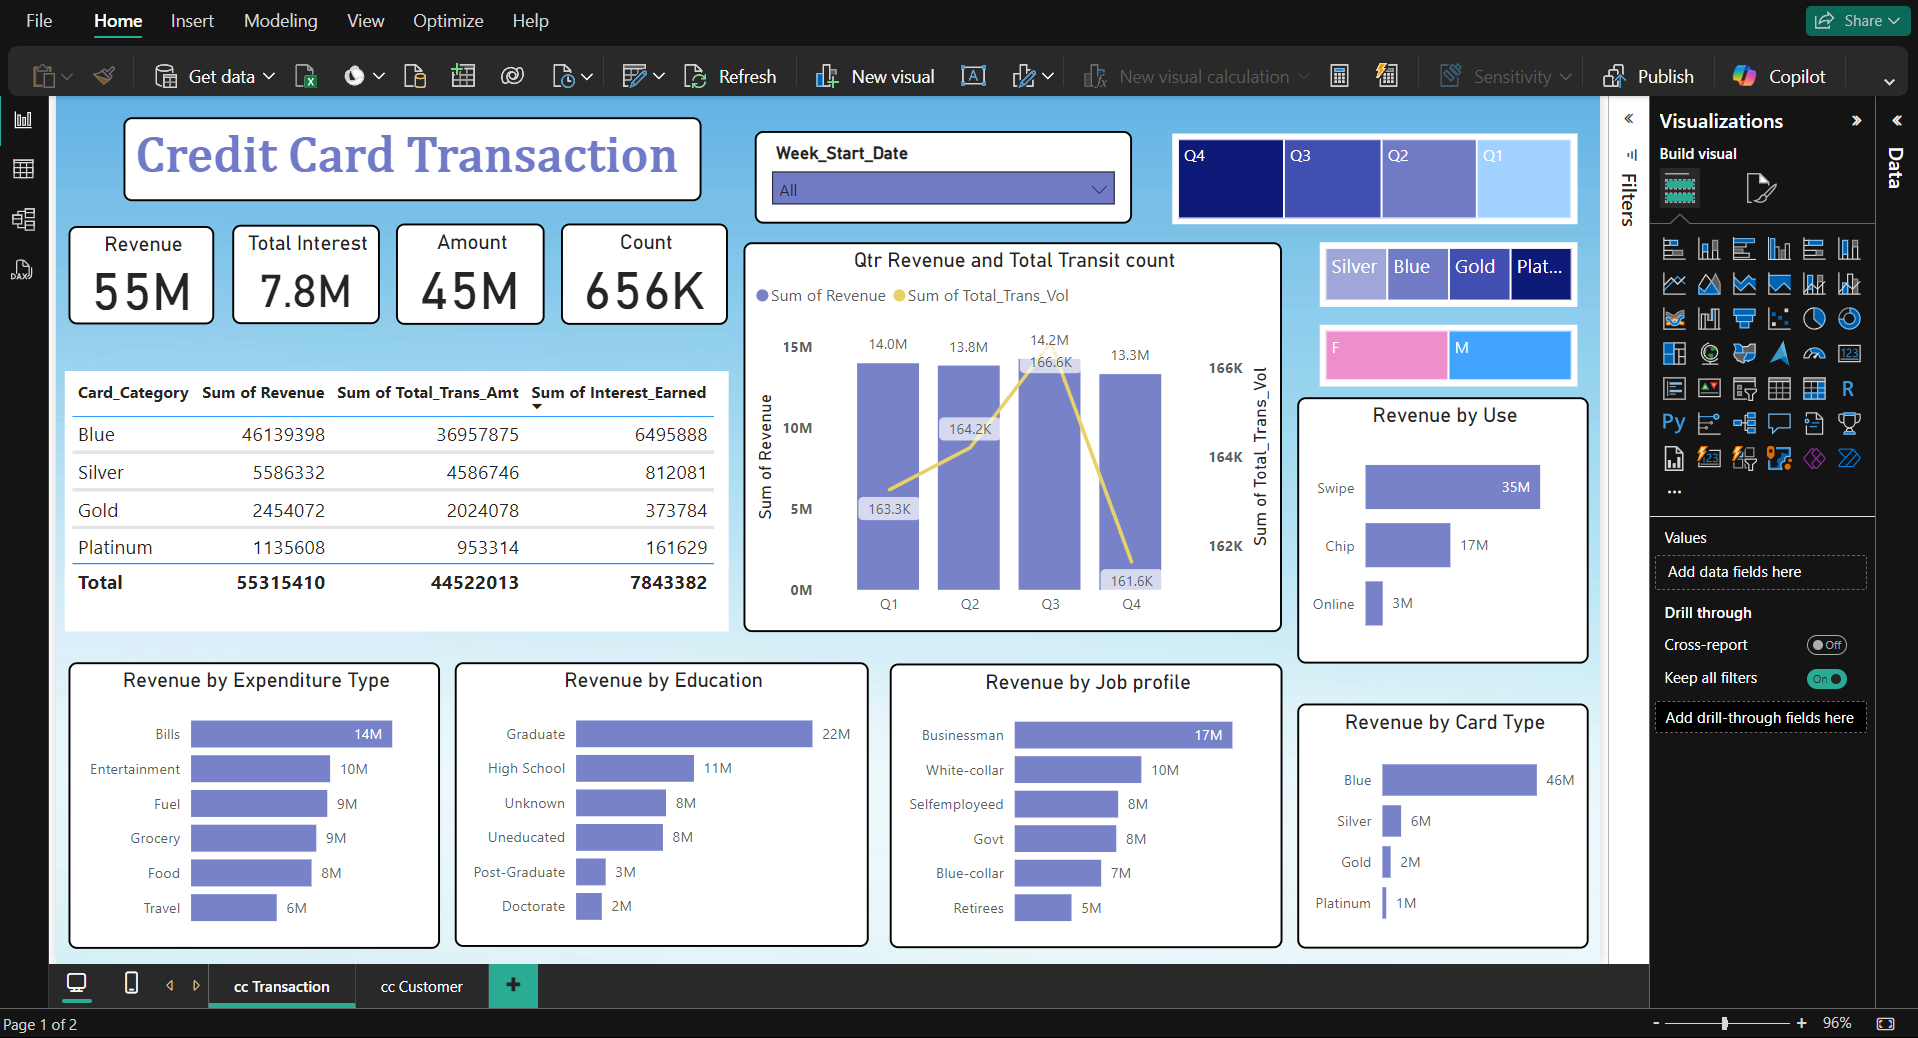

This screenshot's page, from the dashboard's own definition file:
{"tool":"powerbi","page":{"name":"cc Transaction","canvas":[1280,720],"ordinal":0},"visuals":[{"type":"textbox","box":[55.8,17.4,479.1,69.8],"z":0},{"type":"lineStackedColumnComboChart","title":"Qtr Revenue and Total Transit count","fields":{"Category":["credit_card_db credit_card_details.Qtr"],"Y":["Sum(credit_card_db credit_card_details.Revenue)"],"Y2":["Sum(credit_card_db credit_card_details.Total_Trans_Vol)"]},"box":[569.8,120.9,446.5,323.3],"z":1000},{"type":"barChart","title":"Revenue by Expenditure Type","fields":{"Y":["Sum(credit_card_db credit_card_details.Revenue)"],"Category":["credit_card_db credit_card_details.Exp Type"]},"box":[10.5,469.8,308.1,237.2],"z":2000},{"type":"barChart","title":"Revenue by Education","fields":{"Y":["Sum(credit_card_db credit_card_details.Revenue)"],"Category":["credit_card_db customer_details.Education_Level"]},"box":[330.2,469.8,343,236],"z":3000},{"type":"barChart","title":"Revenue by Job profile","fields":{"Y":["Sum(credit_card_db credit_card_details.Revenue)"],"Category":["credit_card_db customer_details.Customer_Job"]},"box":[690.7,470.9,325.6,236],"z":4000},{"type":"barChart","title":"Revenue by Card Type","fields":{"Y":["Sum(credit_card_db credit_card_details.Revenue)"],"Category":["credit_card_db credit_card_details.Card_Category"]},"box":[1029.1,503.5,241.9,203.5],"z":5000},{"type":"barChart","title":"Revenue by Use","fields":{"Y":["Sum(credit_card_db credit_card_details.Revenue)"],"Category":["credit_card_db credit_card_details.Use Chip"]},"box":[1029.1,250,241.9,220.9],"z":6000},{"type":"tableEx","fields":{"Values":["credit_card_db credit_card_details.Card_Category","Sum(credit_card_db credit_card_details.Revenue)","Sum(credit_card_db credit_card_details.Total_Trans_Amt)","Sum(credit_card_db credit_card_details.Interest_Earned)"]},"box":[7,227.9,550,216.3],"z":7000},{"type":"card","title":"Revenue","fields":{"Values":["Sum(credit_card_db credit_card_details.Revenue)"]},"box":[10.5,108.1,120.9,81.4],"z":8000},{"type":"card","title":"Total Interest","fields":{"Values":["Sum(credit_card_db credit_card_details.Interest_Earned)"]},"box":[146.5,107,122.1,82.6],"z":9000},{"type":"card","title":"Amount","fields":{"Values":["Sum(credit_card_db credit_card_details.Total_Trans_Amt)"]},"box":[281.4,105.8,123.3,83.7],"z":10000},{"type":"card","title":"Count","fields":{"Values":["Sum(credit_card_db credit_card_details.Total_Trans_Vol)"]},"box":[418.6,105.8,138.4,83.7],"z":11000},{"type":"slicer","fields":{"Values":["credit_card_db credit_card_details.Week_Start_Date"]},"box":[579.1,29.1,312.8,76.7],"z":12000},{"type":"treemap","fields":{"Group":["credit_card_db credit_card_details.Qtr"],"Values":["Avg(credit_card_db credit_card_details.ï»¿Client_Num)"]},"box":[925.6,31.4,336,75.6],"z":13000},{"type":"treemap","fields":{"Group":["credit_card_db credit_card_details.Card_Category"],"Values":["Avg(credit_card_db credit_card_details.ï»¿Client_Num)"]},"box":[1047.7,120.9,214,53.5],"z":14000},{"type":"treemap","fields":{"Group":["credit_card_db customer_details.Gender"],"Values":["Avg(credit_card_db credit_card_details.ï»¿Client_Num)"]},"box":[1047.7,189.5,214,51.2],"z":15000}]}

Visuals, with their boxes on the page's 1280x720 design canvas (x1, y1, x2, y2). These are canvas units, not pixel positions in the 1918x1038 screenshot, which may show the page scaled, cropped or inside an application window:
textbox: region(56, 17, 535, 87)
"Qtr Revenue and Total Transit count" lineStackedColumnComboChart: region(570, 121, 1016, 444)
"Revenue by Expenditure Type" barChart: region(10, 470, 319, 707)
"Revenue by Education" barChart: region(330, 470, 673, 706)
"Revenue by Job profile" barChart: region(691, 471, 1016, 707)
"Revenue by Card Type" barChart: region(1029, 504, 1271, 707)
"Revenue by Use" barChart: region(1029, 250, 1271, 471)
tableEx - credit_card_db credit_card_details.Card_Category x Sum(credit_card_db credit_card_details.Revenue): region(7, 228, 557, 444)
"Revenue" card: region(10, 108, 131, 190)
"Total Interest" card: region(146, 107, 269, 190)
"Amount" card: region(281, 106, 405, 190)
"Count" card: region(419, 106, 557, 190)
slicer - credit_card_db credit_card_details.Week_Start_Date: region(579, 29, 892, 106)
treemap - credit_card_db credit_card_details.Qtr x Avg(credit_card_db credit_card_details.ï»¿Client_Num): region(926, 31, 1262, 107)
treemap - credit_card_db credit_card_details.Card_Category x Avg(credit_card_db credit_card_details.ï»¿Client_Num): region(1048, 121, 1262, 174)
treemap - credit_card_db customer_details.Gender x Avg(credit_card_db credit_card_details.ï»¿Client_Num): region(1048, 190, 1262, 241)
